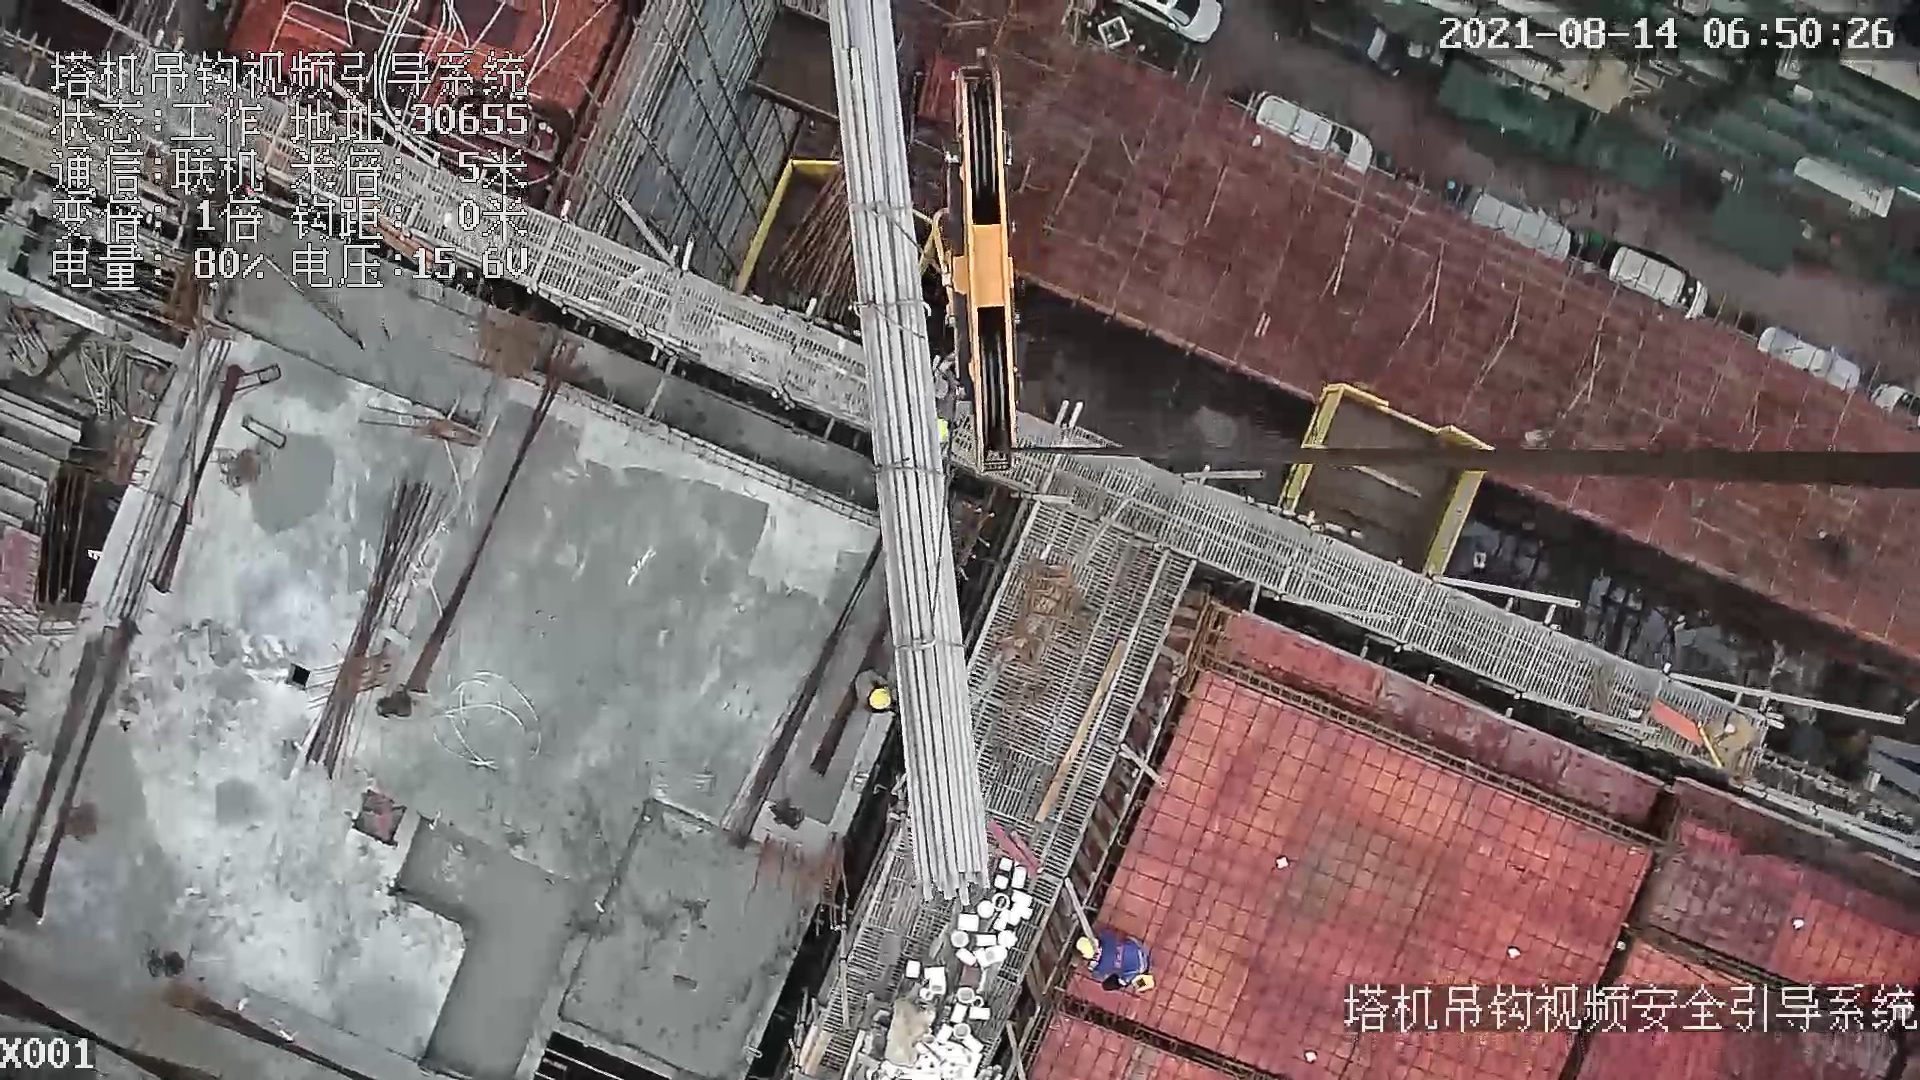helmet: (1075, 935, 1099, 969), (869, 690, 893, 709)
hook: (927, 58, 1027, 476)
person: (1076, 921, 1168, 1003), (862, 677, 901, 714)
